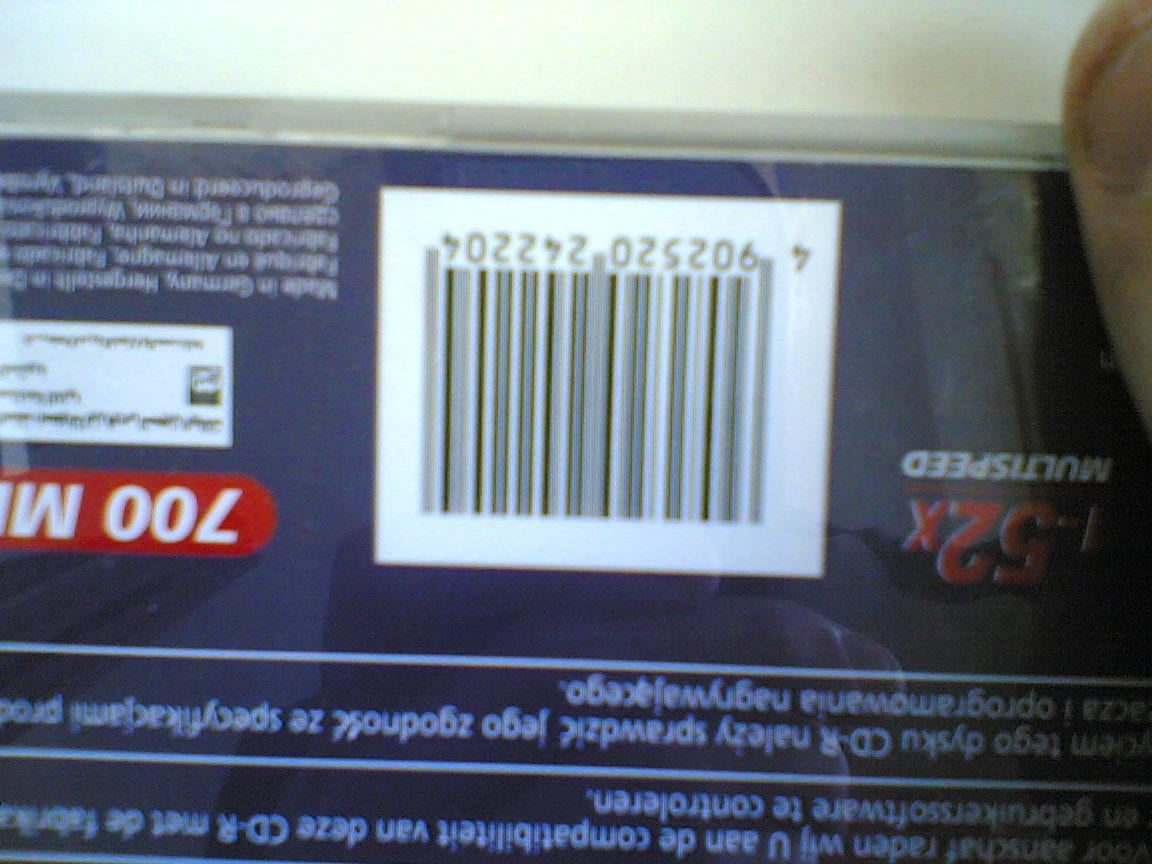Barcode: (401, 213, 832, 537)
